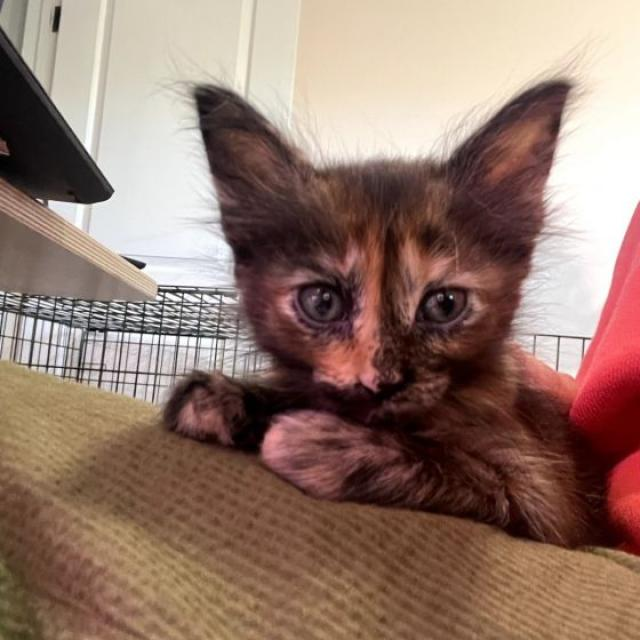domestic_long_hair_cat: (189, 51, 581, 446)
